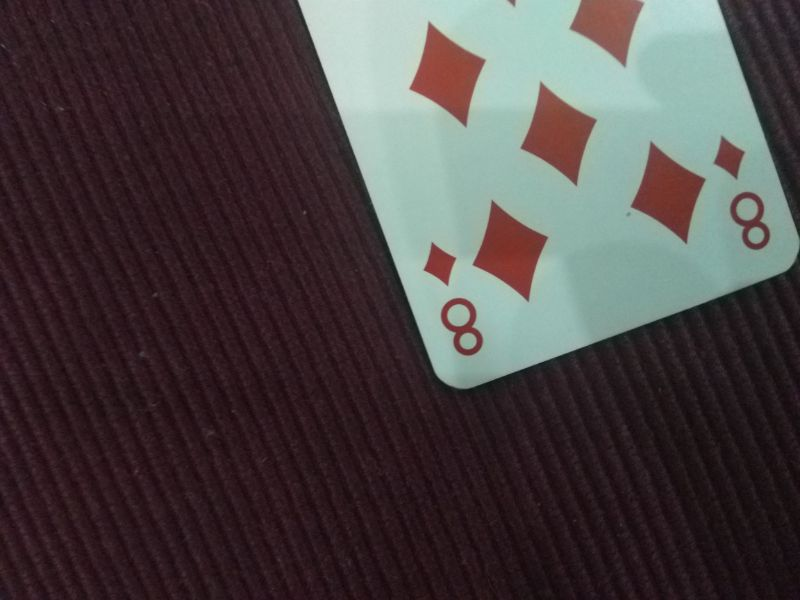8d: (706, 132, 777, 254), (418, 237, 486, 359)
